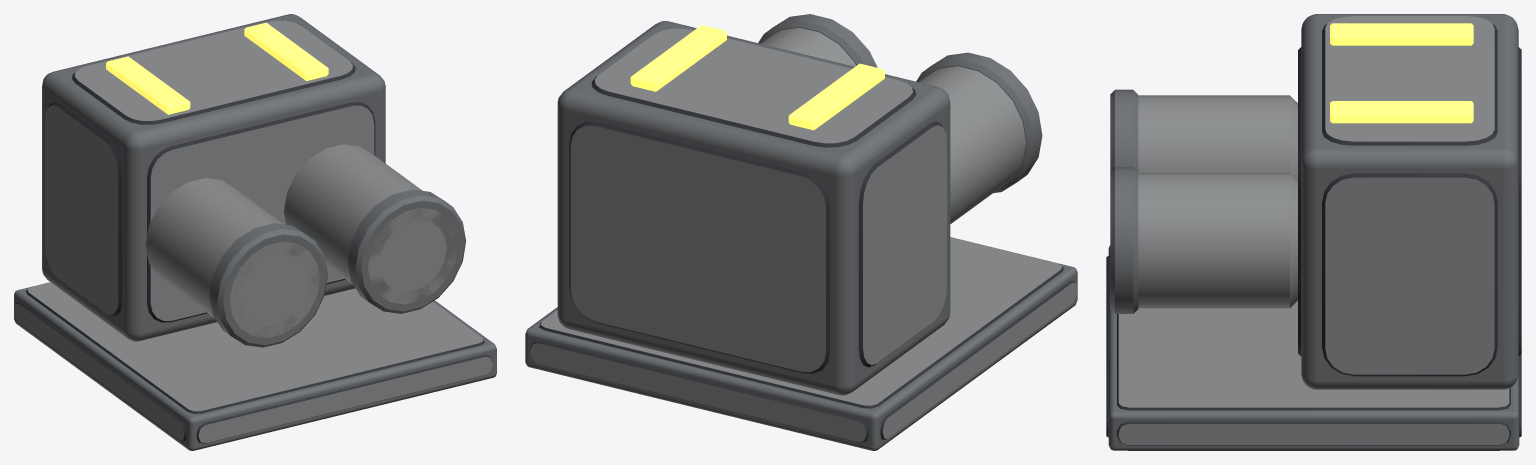
File: R4X_DoubleShotPassive.glb
3 renders of one model, left to right at view 1: azimuth 30°, elevation 25°; view 2: azimuth 150°, elevation 25°; view 3: azimuth 270°, elevation 25°, orthographic. The views are drawn at different scales.
Visible parts, largest first — view 1: R4X_DoubleShotPassive_Body; view 2: R4X_DoubleShotPassive_Body; view 3: R4X_DoubleShotPassive_Body.
Boxes of the visible parts, x1,y1,x2,y2 form: R4X_DoubleShotPassive_Body: [14, 14, 496, 450]; R4X_DoubleShotPassive_Body: [525, 14, 1077, 450]; R4X_DoubleShotPassive_Body: [1106, 14, 1521, 450].
Bounding box in the file's own units: 0.52 × 0.415 × 0.52.
